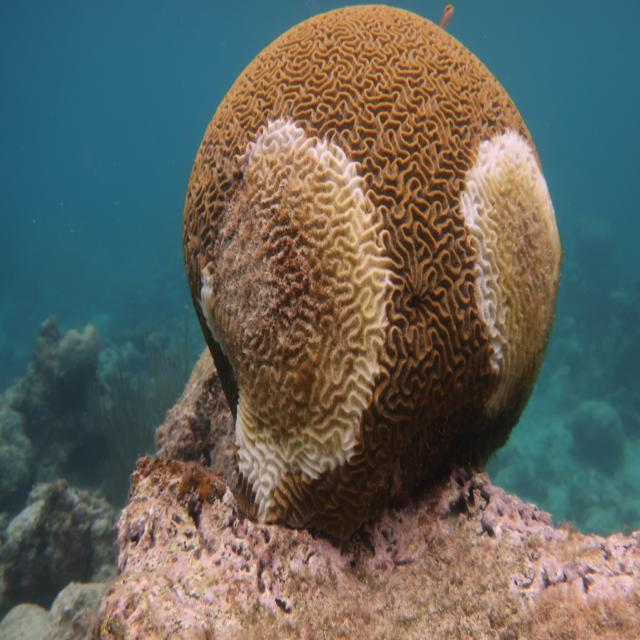Coral: (183, 6, 565, 543), (568, 397, 628, 471)
